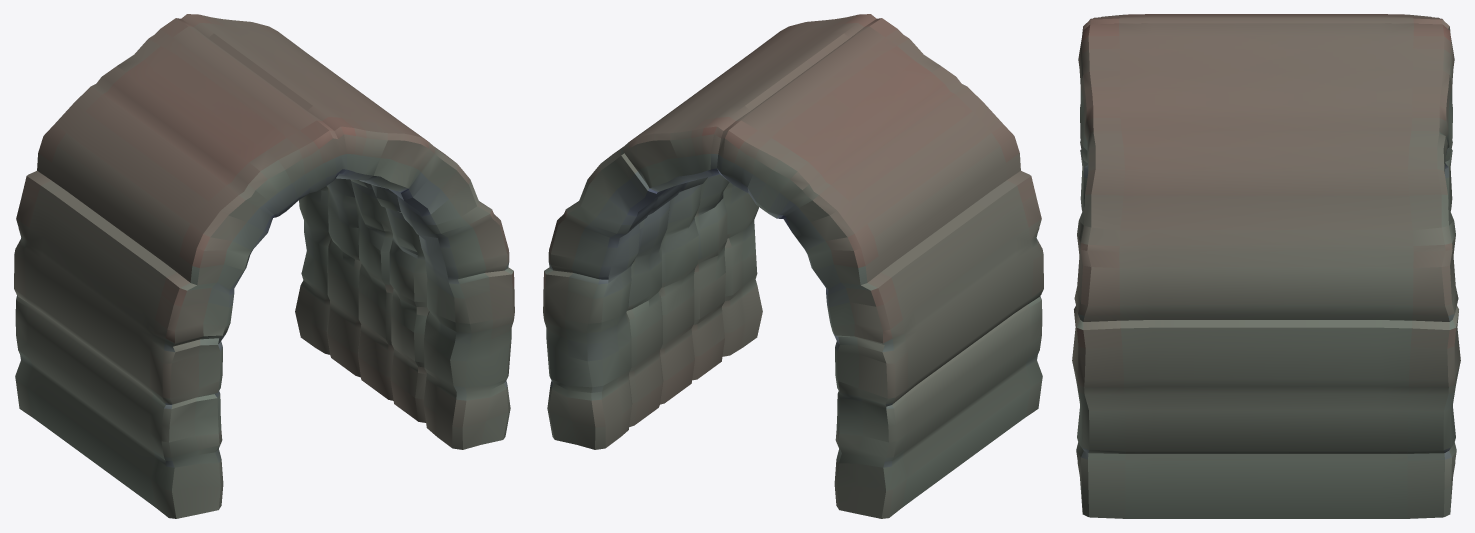
Rendered from Tunnel.fbx.
The picture shows the model from 3 angles, left to right: view 1: azimuth 30°, elevation 25°; view 2: azimuth 150°, elevation 25°; view 3: azimuth 270°, elevation 25°; orthographic projection. The views are drawn at different scales.
Visible parts, largest first — view 1: Tunnel; view 2: Tunnel; view 3: Tunnel.
Part boxes in pixels (left/top/right/bottom): Tunnel: left=14, top=14, right=514, bottom=518; Tunnel: left=543, top=14, right=1043, bottom=518; Tunnel: left=1072, top=14, right=1460, bottom=518.
Size of the model in its own units: 318 by 308 by 268.
